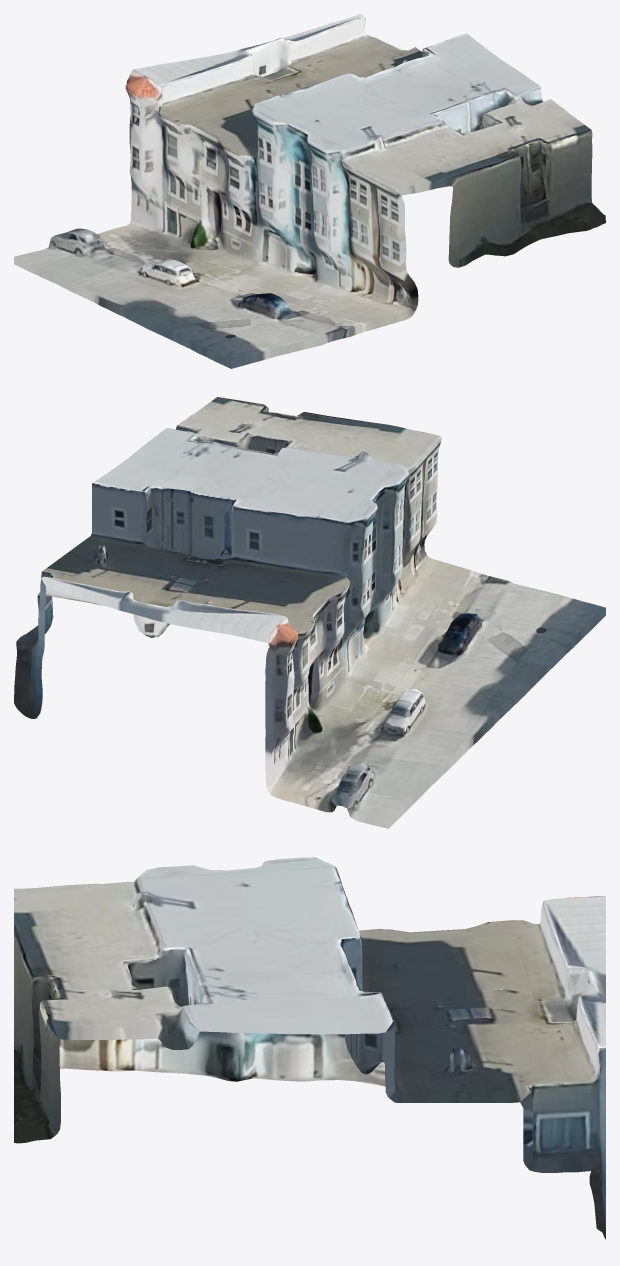
Rendered from z20-167741-405195-h0-yup-uvflip-v3-world.glb.
The picture shows the model from 3 angles, top to bottom: view 1: azimuth 30°, elevation 25°; view 2: azimuth 150°, elevation 25°; view 3: azimuth 270°, elevation 25°; orthographic projection. The views are drawn at different scales.
Bounding box in the file's own units: 30.2 × 15.8 × 30.32.
1 material, 1 textured.
